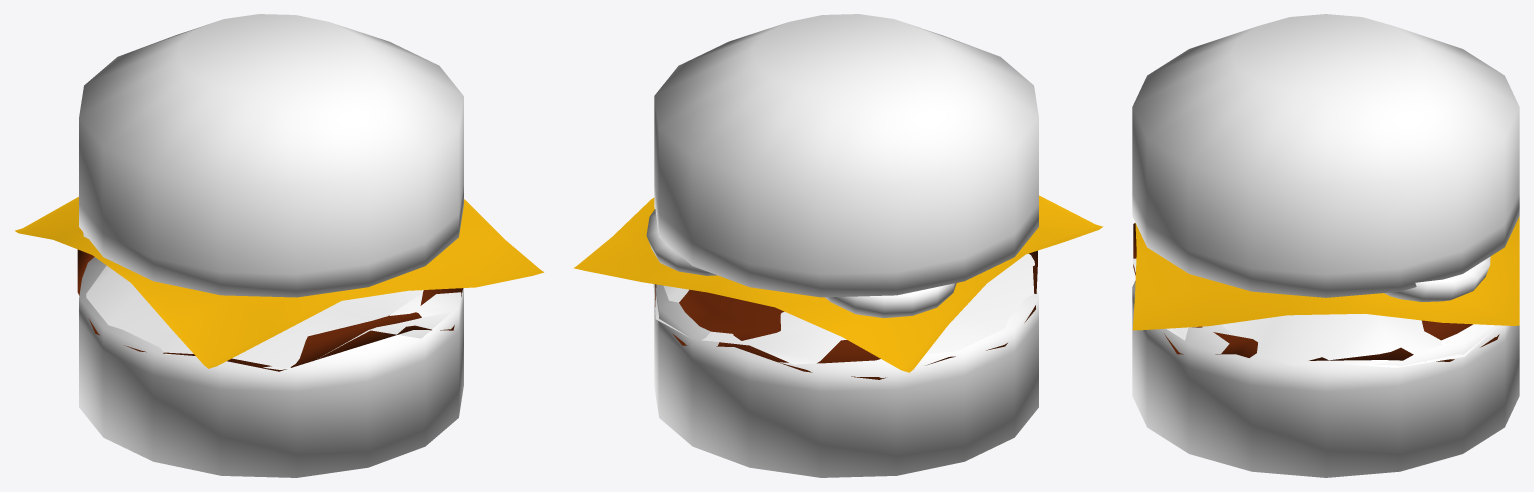
File: burger.gltf
3 renders of one model, left to right at view 1: azimuth 30°, elevation 25°; view 2: azimuth 150°, elevation 25°; view 3: azimuth 270°, elevation 25°, orthographic.
Visible parts, largest first — view 1: Circle.005, Circle, Plane, Circle.001, Circle.002; view 2: Circle.005, Circle, Plane, Circle.001, Circle.002, Circle.003, Circle.006; view 3: Circle.005, Circle, Plane, Circle.001, Circle.002, Circle.006.
Boxes of the visible parts, x1,y1,x2,y2 form: Circle.005: [79, 14, 463, 297]; Circle: [79, 257, 463, 477]; Plane: [15, 197, 543, 368]; Circle.001: [86, 265, 451, 367]; Circle.002: [77, 249, 463, 371]; Circle.005: [654, 14, 1038, 297]; Circle: [654, 284, 1038, 477]; Plane: [573, 195, 1103, 372]; Circle.001: [653, 253, 1037, 364]; Circle.002: [655, 250, 1037, 379]; Circle.003: [825, 283, 956, 317]; Circle.006: [646, 209, 716, 275]; Circle.005: [1132, 14, 1519, 297]; Circle: [1132, 280, 1519, 477]; Plane: [1132, 216, 1519, 330]; Circle.001: [1132, 258, 1498, 367]; Circle.002: [1133, 223, 1499, 361]; Circle.006: [1384, 256, 1490, 301].
Bounding box in the file's own units: 2.05 × 1.95 × 2.
